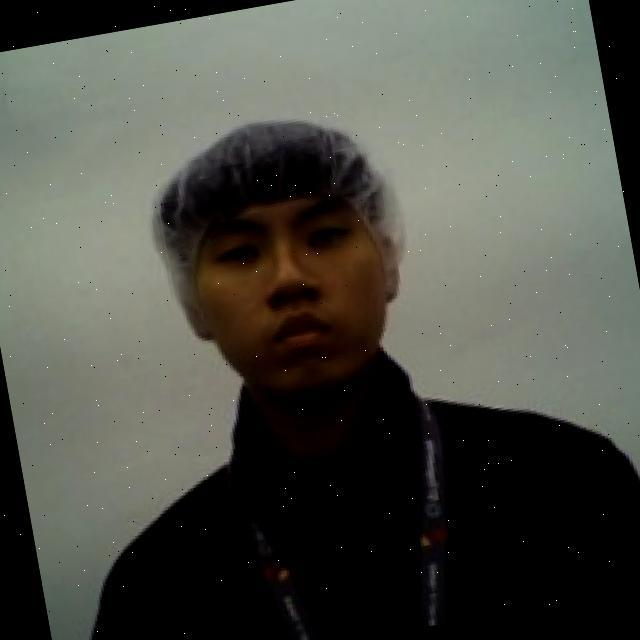gloves: (133, 94, 425, 351)
no_hairnet: (170, 230, 418, 426)
